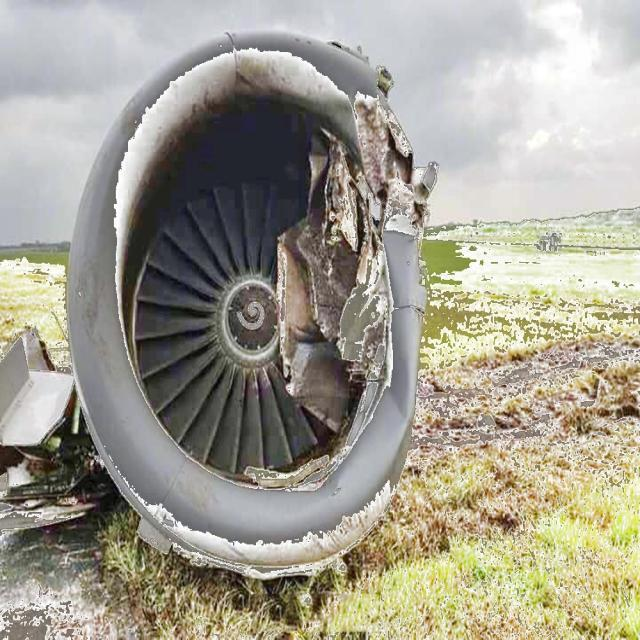dent: (382, 322, 420, 483), (383, 210, 420, 258)
